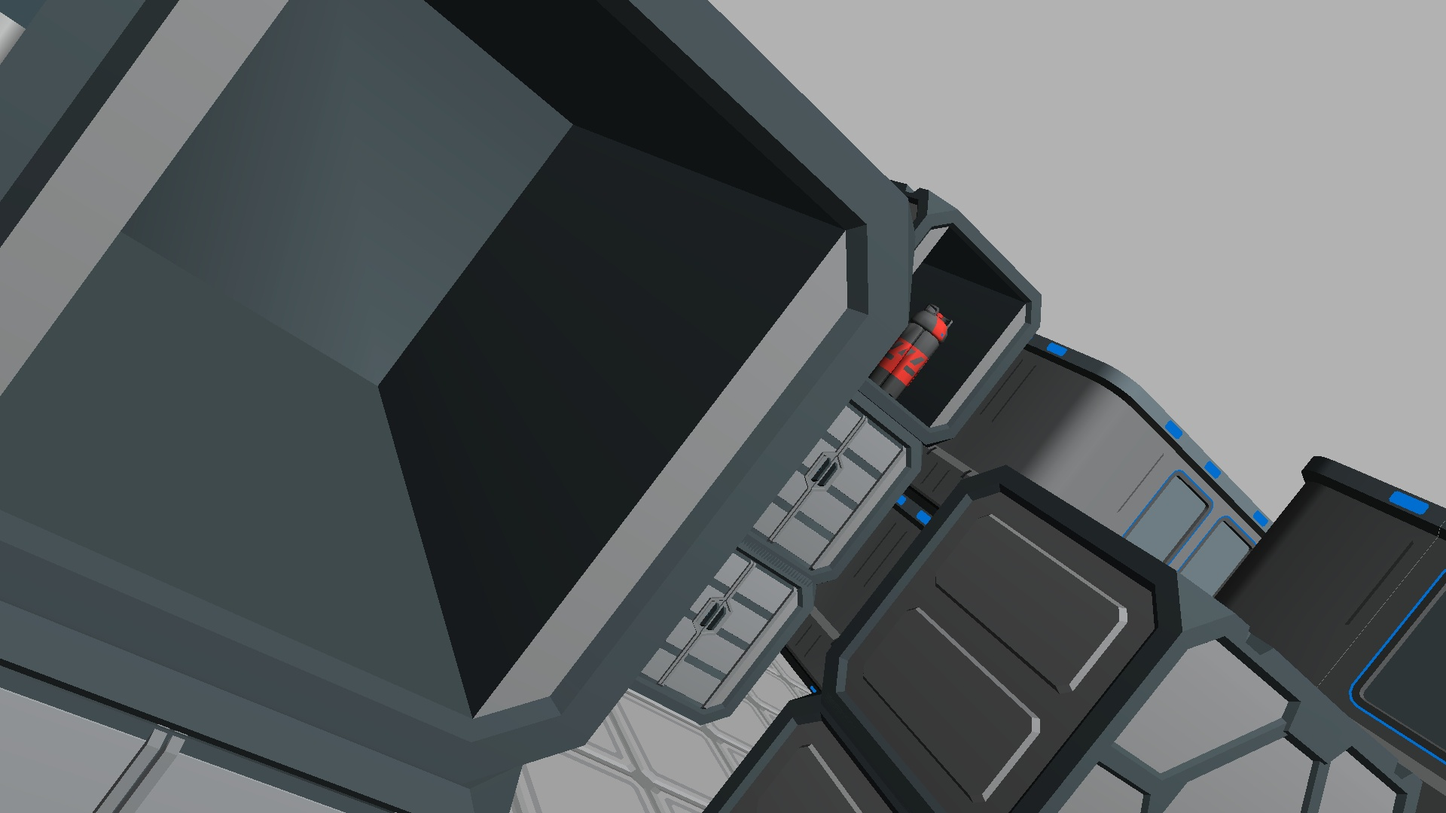red barrel: (868, 303, 953, 400)
